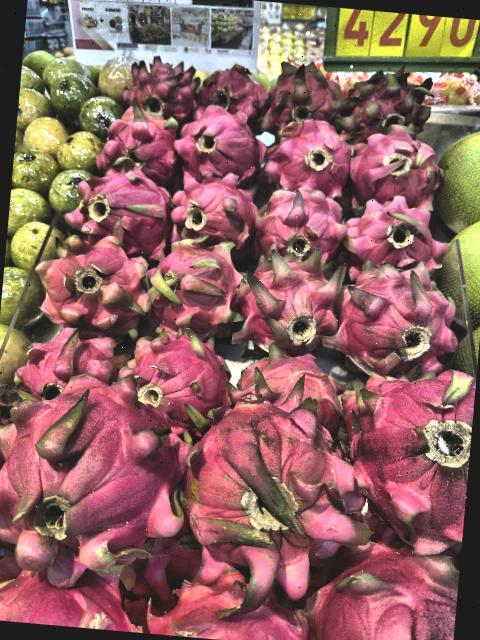buah-naga-matang: (171, 372, 375, 594), (0, 366, 191, 571), (340, 370, 476, 564), (338, 266, 454, 374), (222, 252, 344, 352), (332, 189, 450, 283), (230, 344, 358, 424), (68, 162, 166, 262), (126, 320, 230, 413), (338, 130, 450, 212), (155, 165, 255, 256), (33, 240, 136, 328), (248, 177, 346, 264), (337, 66, 442, 144), (168, 104, 270, 184), (144, 242, 237, 328), (94, 100, 186, 178), (258, 54, 352, 128), (34, 326, 130, 397), (255, 114, 346, 188), (114, 53, 196, 116), (191, 58, 270, 113)
